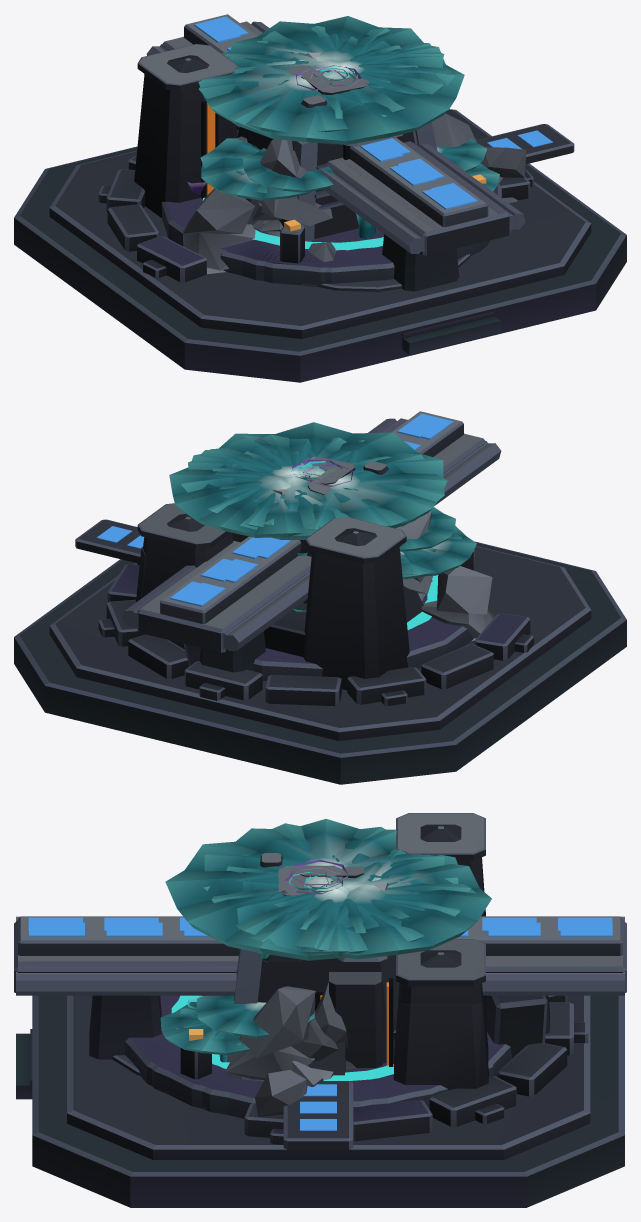
File: nacre-kit.glb
The picture shows the model from 3 angles, top to bottom: view 1: azimuth 30°, elevation 25°; view 2: azimuth 150°, elevation 25°; view 3: azimuth 270°, elevation 25°; orthographic projection. The views are drawn at different scales.
Parts seen in each view (by area): view 1: nacre_fort_0, nacre_bridge_0, nacre_crag_2, nacre_bridge_1, nacre_lotus_0, nacre_lotus_1, nacre_ring_0, nacre_grove_0, nacre_grove_1, nacre_ring_1, nacre_grove_2, nacre_lotus_2 (+4 smaller); view 2: nacre_fort_0, nacre_bridge_0, nacre_bridge_1, nacre_grove_0, nacre_lotus_0, nacre_lotus_1, nacre_grove_1, nacre_ring_0, nacre_crag_2, nacre_grove_2, nacre_lotus_2, nacre_tower_1 (+1 smaller); view 3: nacre_fort_0, nacre_bridge_1, nacre_grove_0, nacre_lotus_0, nacre_lotus_1, nacre_bridge_0, nacre_fort_1, nacre_ring_0, nacre_crag_2, nacre_pillars_0, nacre_grove_2, nacre_ring_1 (+6 smaller).
Boxes of the visible parts, <box> form: nacre_fort_0: <box>14,44,626,382</box>; nacre_bridge_0: <box>146,16,515,291</box>; nacre_crag_2: <box>182,82,526,274</box>; nacre_bridge_1: <box>160,14,525,286</box>; nacre_lotus_0: <box>199,30,464,144</box>; nacre_lotus_1: <box>198,51,486,171</box>; nacre_ring_0: <box>161,176,501,287</box>; nacre_grove_0: <box>230,16,499,193</box>; nacre_grove_1: <box>201,32,443,235</box>; nacre_ring_1: <box>220,174,501,285</box>; nacre_grove_2: <box>187,26,472,238</box>; nacre_lotus_2: <box>243,36,417,192</box>; nacre_fort_0: <box>14,503,626,784</box>; nacre_bridge_0: <box>131,413,501,672</box>; nacre_bridge_1: <box>122,411,488,666</box>; nacre_grove_0: <box>169,442,461,560</box>; nacre_lotus_0: <box>188,422,444,539</box>; nacre_lotus_1: <box>280,440,447,529</box>; nacre_grove_1: <box>210,434,476,576</box>; nacre_ring_0: <box>169,550,488,680</box>; nacre_crag_2: <box>310,456,494,640</box>; nacre_grove_2: <box>181,435,456,612</box>; nacre_lotus_2: <box>212,451,455,551</box>; nacre_tower_1: <box>363,461,432,622</box>; nacre_fort_0: <box>16,813,624,1207</box>; nacre_bridge_1: <box>14,921,626,1059</box>; nacre_grove_0: <box>160,848,491,1062</box>; nacre_lotus_0: <box>165,823,475,960</box>; nacre_lotus_1: <box>196,819,444,1037</box>; nacre_bridge_0: <box>14,916,626,1048</box>; nacre_fort_1: <box>386,1003,488,1090</box>; nacre_ring_0: <box>125,995,511,1114</box>; nacre_crag_2: <box>225,890,315,1127</box>; nacre_pillars_0: <box>278,865,382,1067</box>; nacre_grove_2: <box>176,852,460,1038</box>; nacre_ring_1: <box>130,995,493,1118</box>.
Bounding box in the file's own units: 3 × 1.12 × 3.
